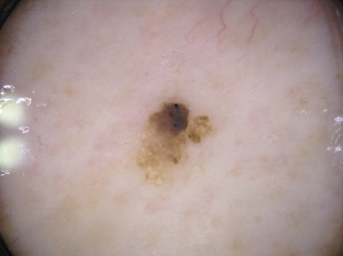seborrheic keratosis: (127, 88, 233, 196)
